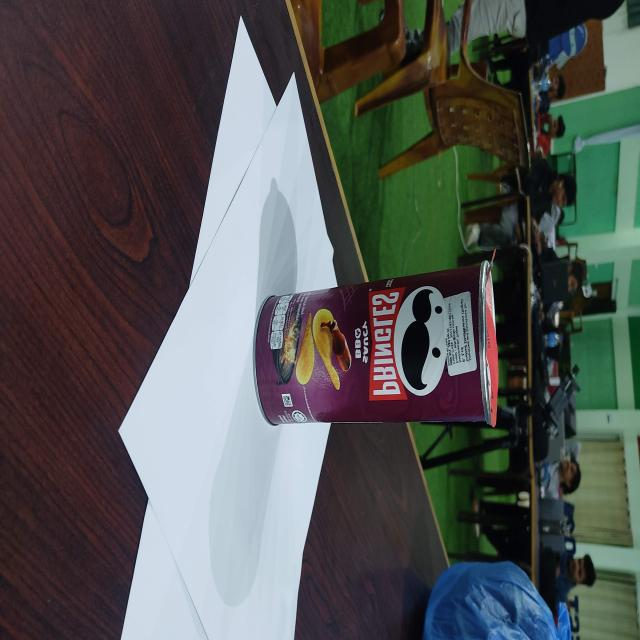Camer Stand: (252, 252, 500, 428)
